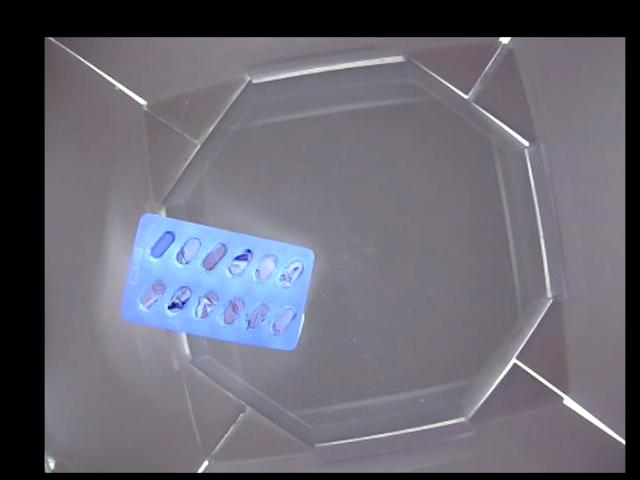Medicine: (117, 212, 315, 351)
